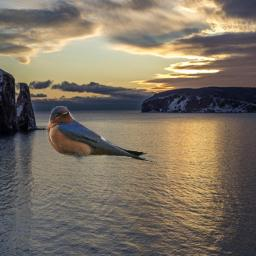Swallow: (46, 106, 158, 164)
